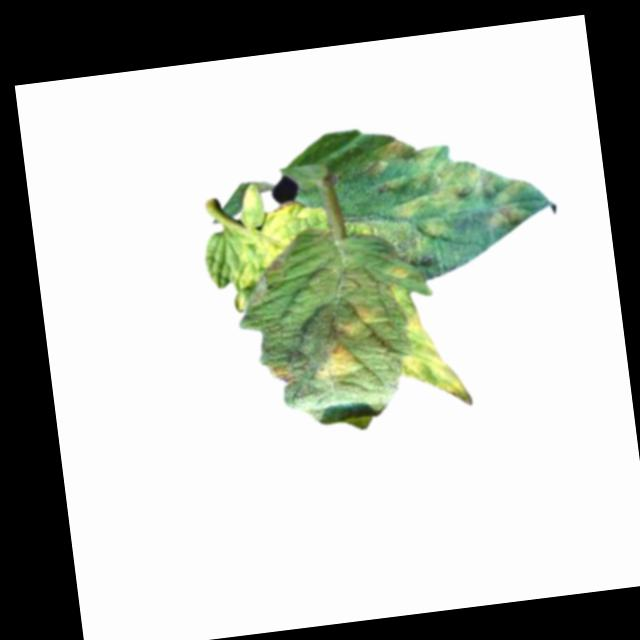Leaf_Mold: (343, 118, 555, 266), (219, 195, 339, 310), (387, 274, 473, 414), (309, 340, 363, 388), (329, 301, 377, 338), (267, 358, 298, 388)
